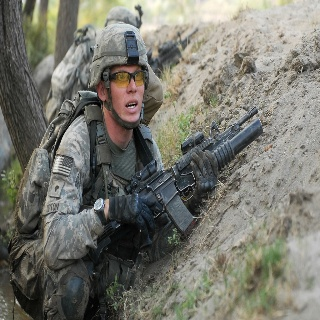rifle: (85, 106, 263, 262)
